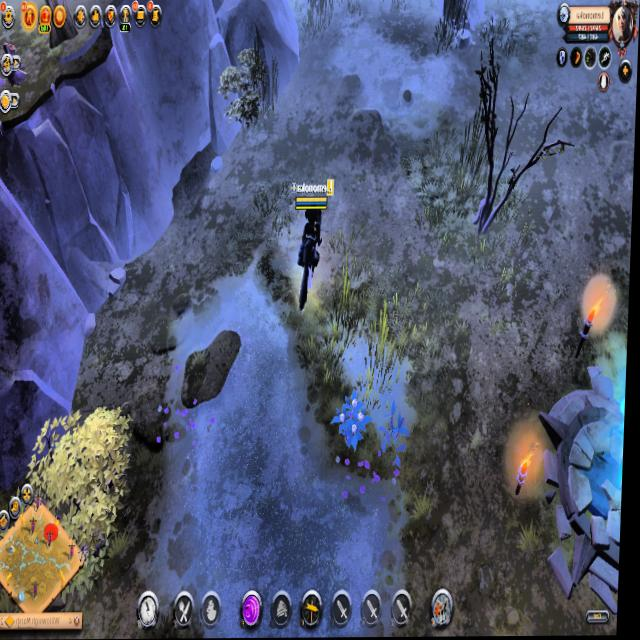fiber tier 4: (332, 388, 375, 457)
